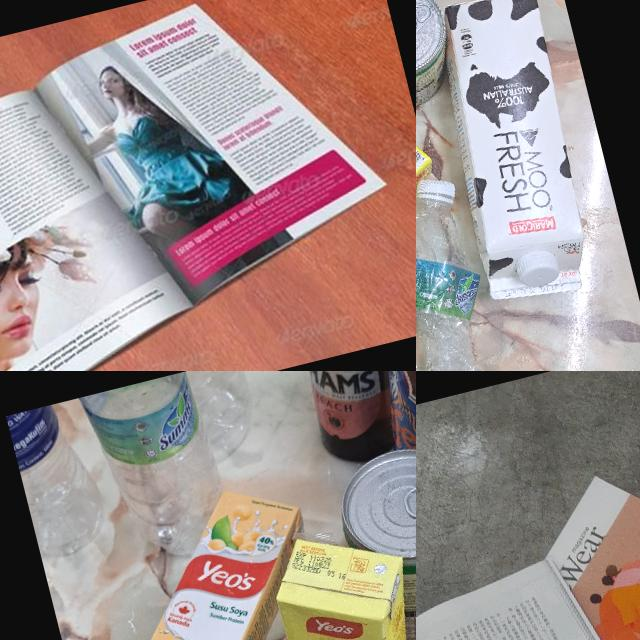aba de lata: (401, 474, 416, 518)
caixinha: (419, 0, 607, 312), (107, 474, 344, 640), (262, 516, 416, 640)
garrafa de vidro: (299, 371, 416, 474), (367, 371, 416, 552)
garrafa plástica: (83, 371, 232, 564), (6, 398, 112, 562), (416, 192, 506, 371), (163, 371, 265, 460)
lata: (331, 435, 416, 640), (416, 0, 461, 117)
papel: (0, 0, 416, 371), (416, 443, 640, 640)
tampa plástica: (506, 243, 562, 290), (418, 172, 462, 208)
